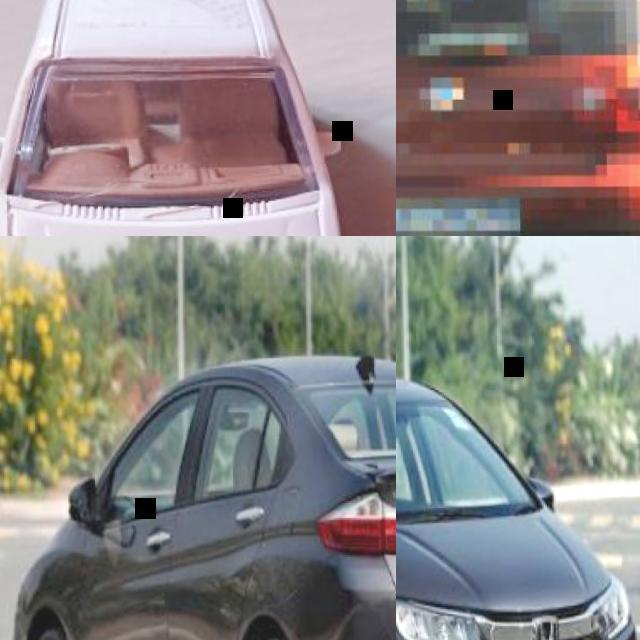car: (9, 354, 390, 639)
